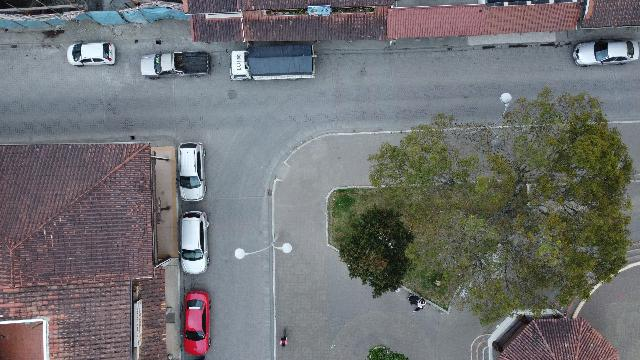Vehiculo: (178, 212, 210, 274), (140, 51, 210, 79), (183, 290, 211, 356), (573, 40, 639, 66), (178, 142, 206, 202), (68, 42, 116, 66), (230, 50, 252, 80)
